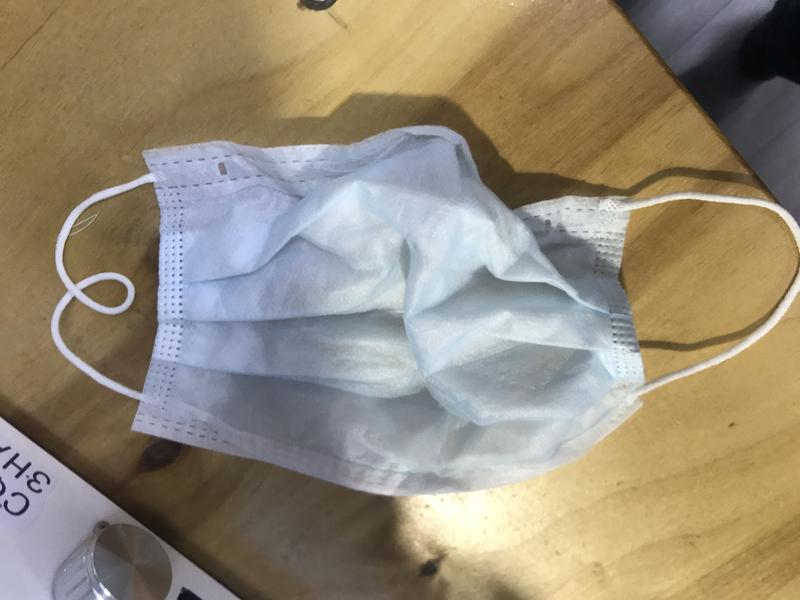medical_mask: (49, 126, 800, 495)
